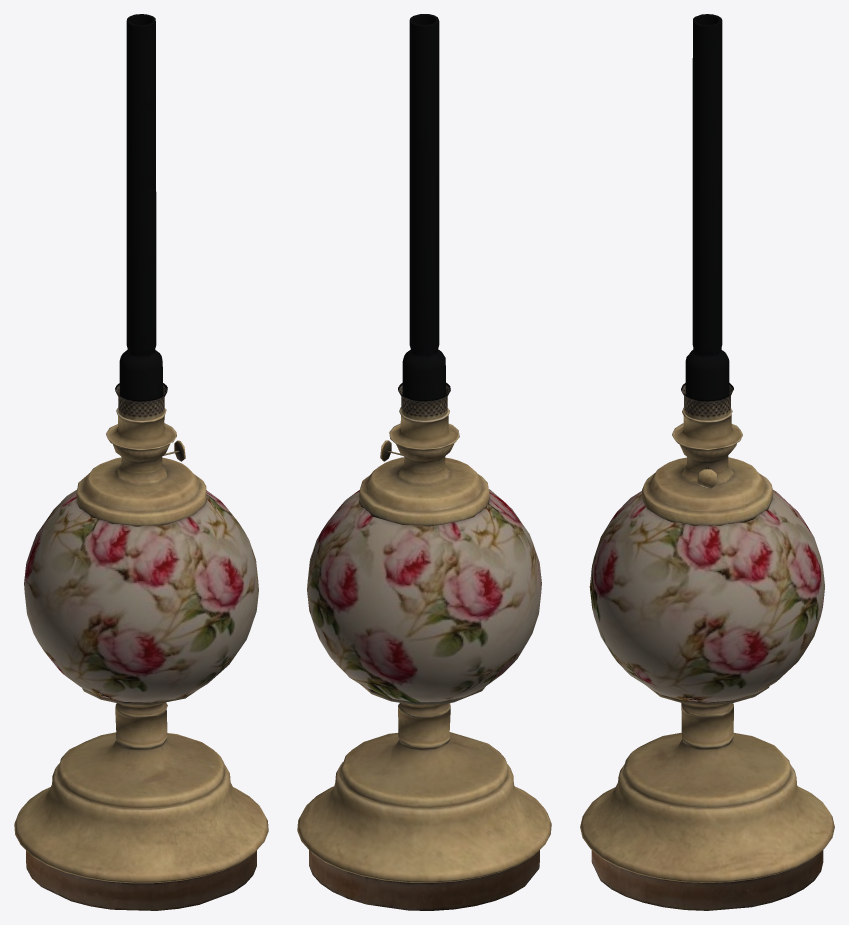
The model's file is ph2_vintage_oil_lamp.glb.
3 renders of one model, left to right at view 1: azimuth 30°, elevation 25°; view 2: azimuth 150°, elevation 25°; view 3: azimuth 270°, elevation 25°, orthographic.
Size of the model in its own units: 0.22 by 0.8016 by 0.22.
3 materials, 3 textured.
